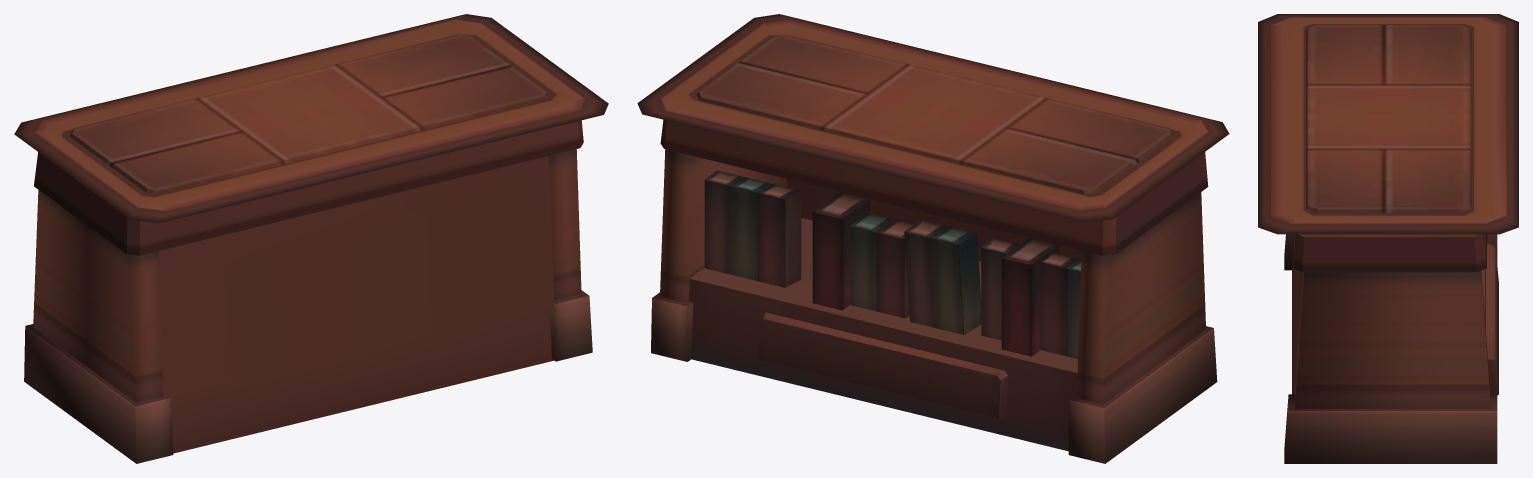
File: [gimmick]gate_library.fbx
3 renders of one model, left to right at view 1: azimuth 30°, elevation 25°; view 2: azimuth 150°, elevation 25°; view 3: azimuth 270°, elevation 25°, orthographic. The views are drawn at different scales.
Visible parts, largest first — view 1: battlegate, battlegate_base; view 2: battlegate, battlegate_base; view 3: battlegate, battlegate_base.
Part boxes in pixels (x1,y1,x2,y2): battlegate: (24,34,592,463); battlegate_base: (14,14,608,223); battlegate: (651,34,1217,463); battlegate_base: (637,14,1229,222); battlegate: (1284,25,1498,463); battlegate_base: (1258,14,1518,234).
Bounding box in the file's own units: 2.01 × 1.04 × 1.01.
1 material, 1 textured.
